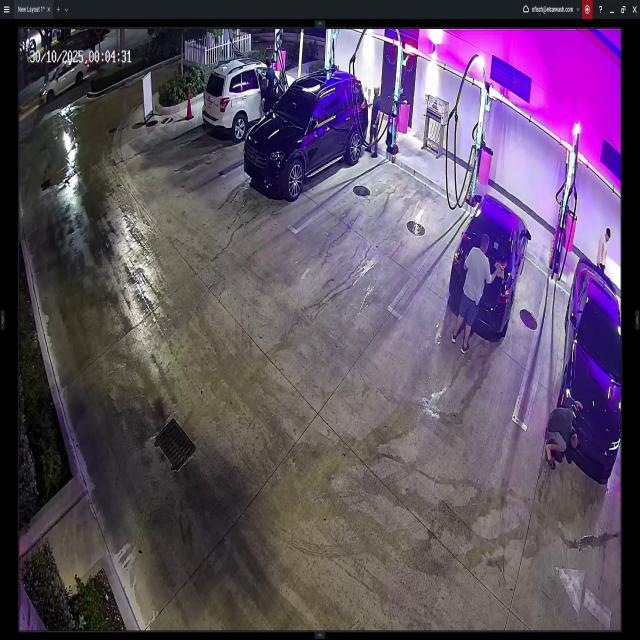Car: (242, 70, 369, 198), (559, 253, 622, 470), (448, 196, 530, 336), (202, 62, 296, 136), (40, 54, 90, 101)
